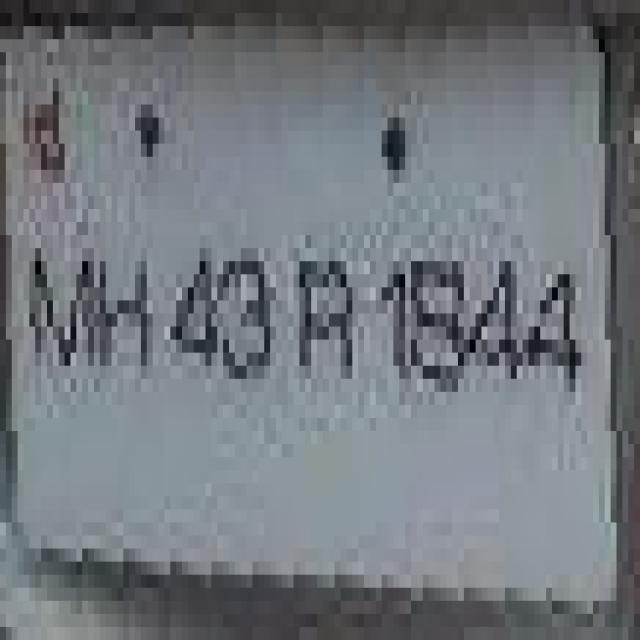license_plate: (0, 39, 622, 587)
